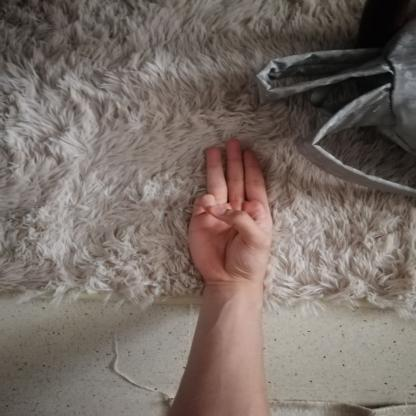THA: (176, 127, 290, 294)
